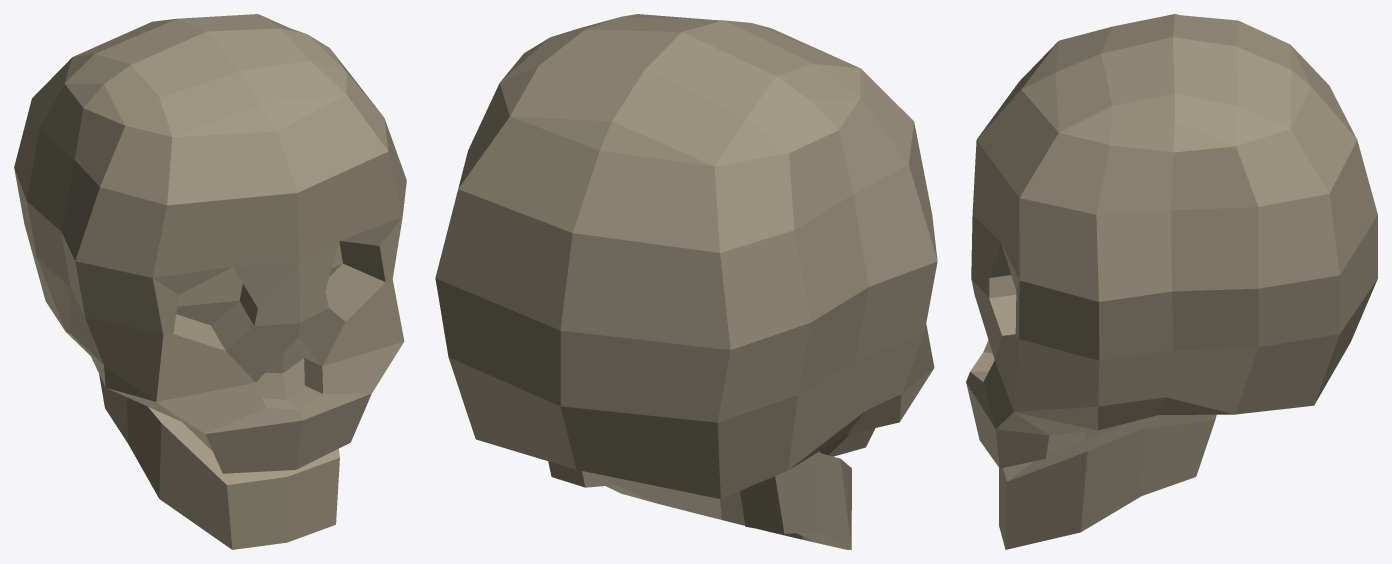
File: pu_instakill.glb
3 renders of one model, left to right at view 1: azimuth 30°, elevation 25°; view 2: azimuth 150°, elevation 25°; view 3: azimuth 270°, elevation 25°, orthographic. The views are drawn at different scales.
Visible parts, largest first — view 1: pu_instakill; view 2: pu_instakill; view 3: pu_instakill.
Boxes of the visible parts, x1=… form: pu_instakill: x1=14, y1=14, x2=406, y2=549; pu_instakill: x1=435, y1=14, x2=937, y2=549; pu_instakill: x1=966, y1=14, x2=1377, y2=549.
Bounding box in the file's own units: 0.3838 × 0.5 × 0.3818.
